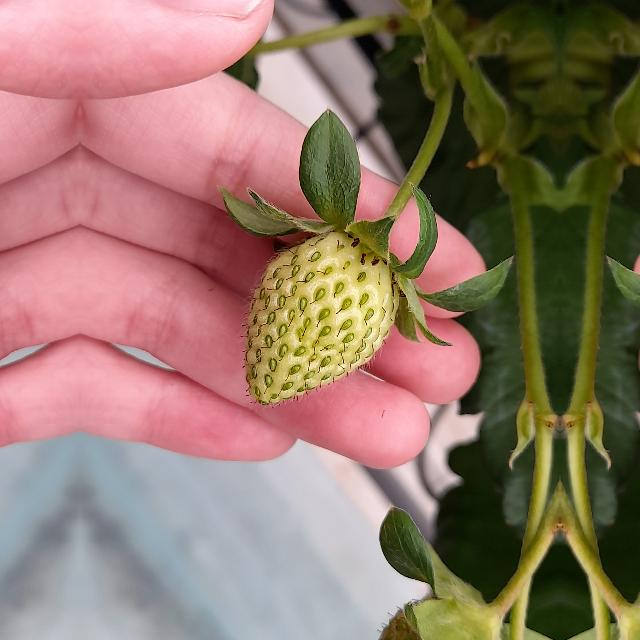Health_25: (245, 232, 399, 404)
